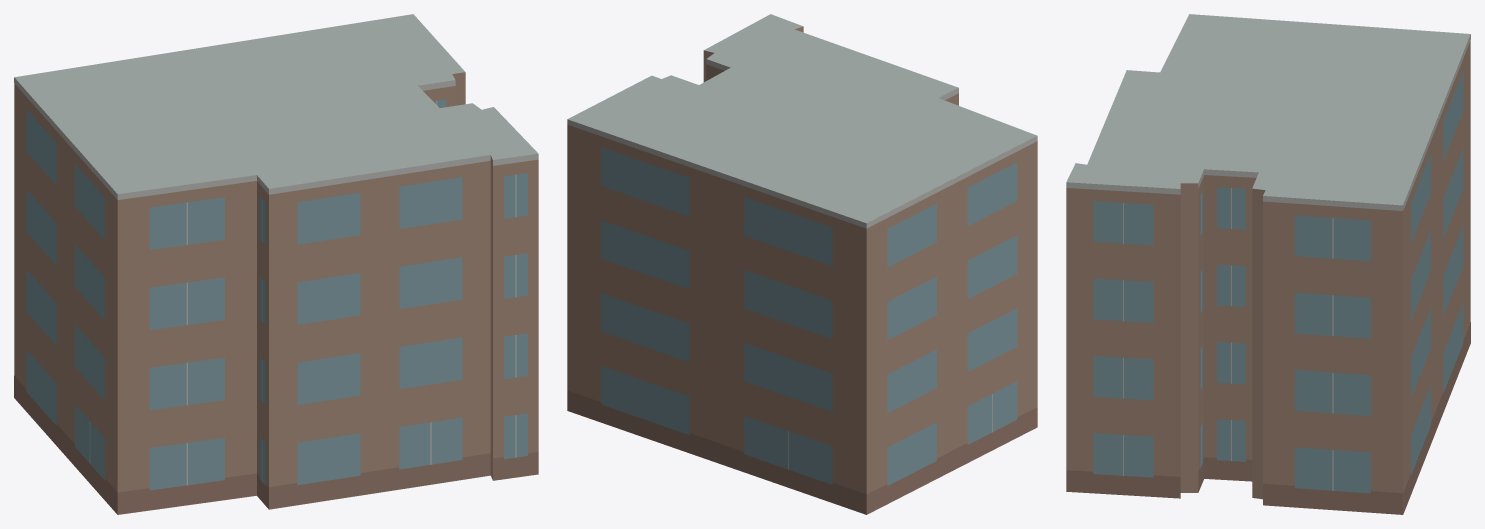
Rendered from survey-upis-32779506.glb.
3 renders of one model, left to right at view 1: azimuth 30°, elevation 25°; view 2: azimuth 150°, elevation 25°; view 3: azimuth 270°, elevation 25°, orthographic. The views are drawn at different scales.
Visible parts, largest first — view 1: survey-upis-32779506.tmp; view 2: survey-upis-32779506.tmp; view 3: survey-upis-32779506.tmp.
Part boxes in pixels (box(x1,y1,x2,y2)): survey-upis-32779506.tmp: box(14, 14, 538, 514); survey-upis-32779506.tmp: box(567, 14, 1037, 514); survey-upis-32779506.tmp: box(1066, 14, 1470, 514).
Bounding box in the file's own units: 17.86 × 13.45 × 15.95.
